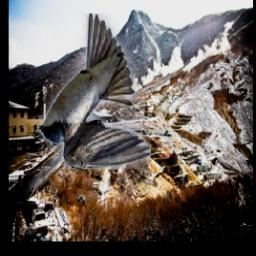Swallow: (38, 14, 151, 170)
